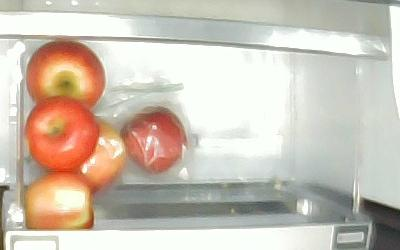apple: (25, 96, 100, 172), (26, 41, 106, 111), (25, 173, 95, 228)
apple_vinyl: (120, 106, 188, 173), (74, 115, 126, 192)
